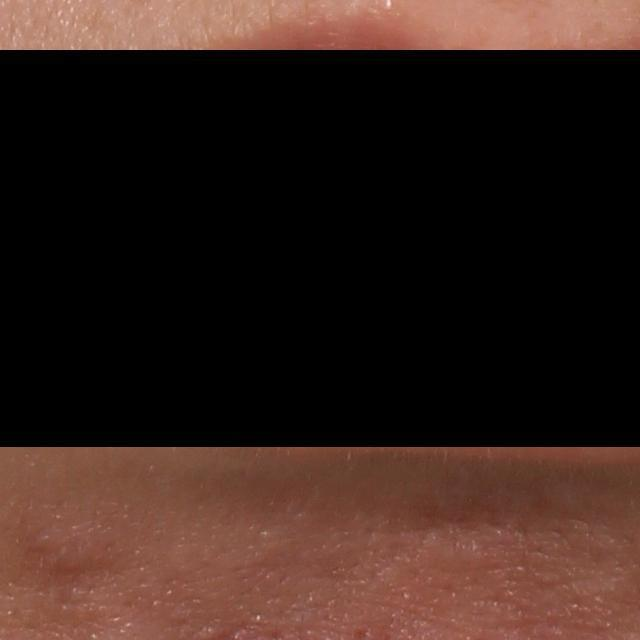hypertrophic_scar: (28, 517, 125, 578), (410, 526, 495, 574)
